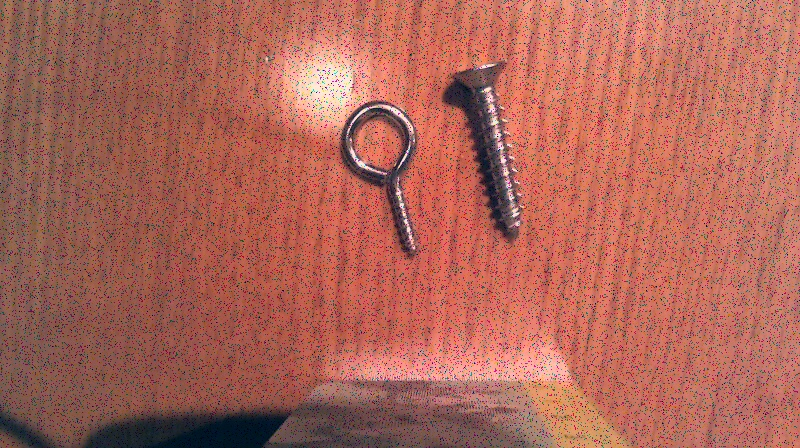O001: (334, 98, 428, 262)
S001: (447, 56, 528, 246)
